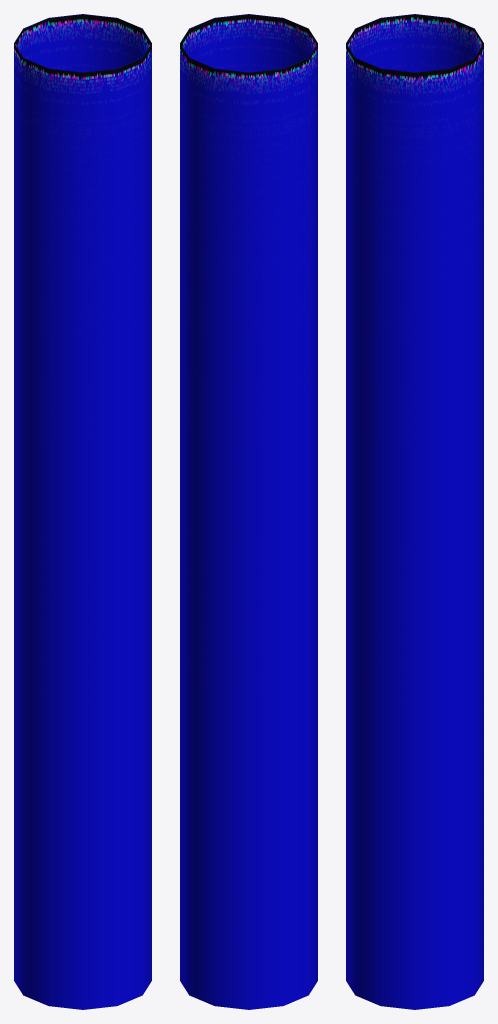
The model's file is Checkpoint.dae.
The picture shows the model from 3 angles, left to right: view 1: azimuth 30°, elevation 25°; view 2: azimuth 150°, elevation 25°; view 3: azimuth 270°, elevation 25°; orthographic projection.
Parts seen in each view (by area): view 1: cylinder%Checkpoint%; view 2: cylinder%Checkpoint%; view 3: cylinder%Checkpoint%.
Part boxes in pixels (bbox=[...]): cylinder%Checkpoint%: bbox=[14, 14, 151, 1009]; cylinder%Checkpoint%: bbox=[180, 14, 317, 1009]; cylinder%Checkpoint%: bbox=[346, 14, 483, 1009].
Bounding box in the file's own units: 2 × 15 × 2.
